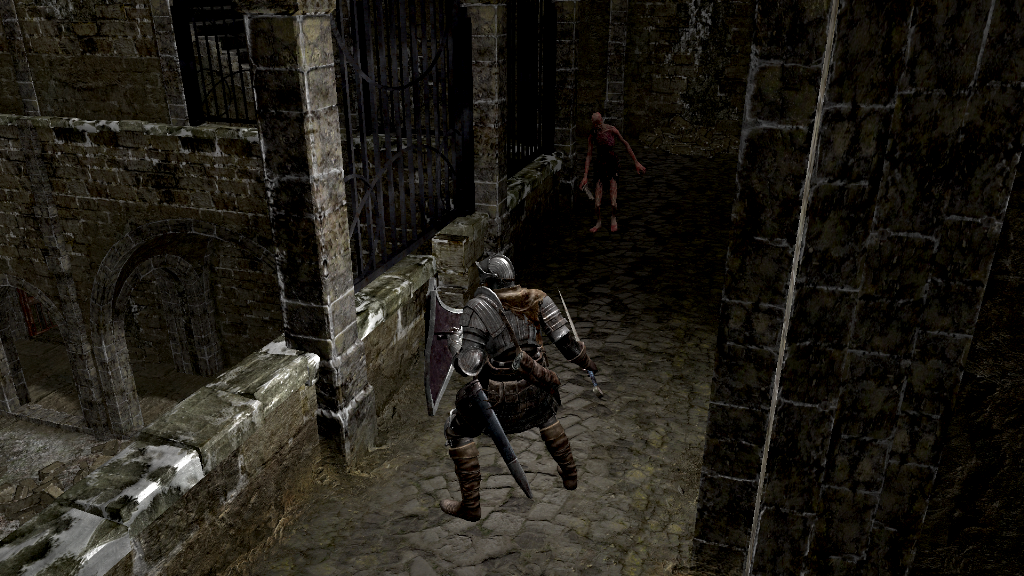hollow: (577, 110, 647, 233)
player: (420, 253, 606, 521)
